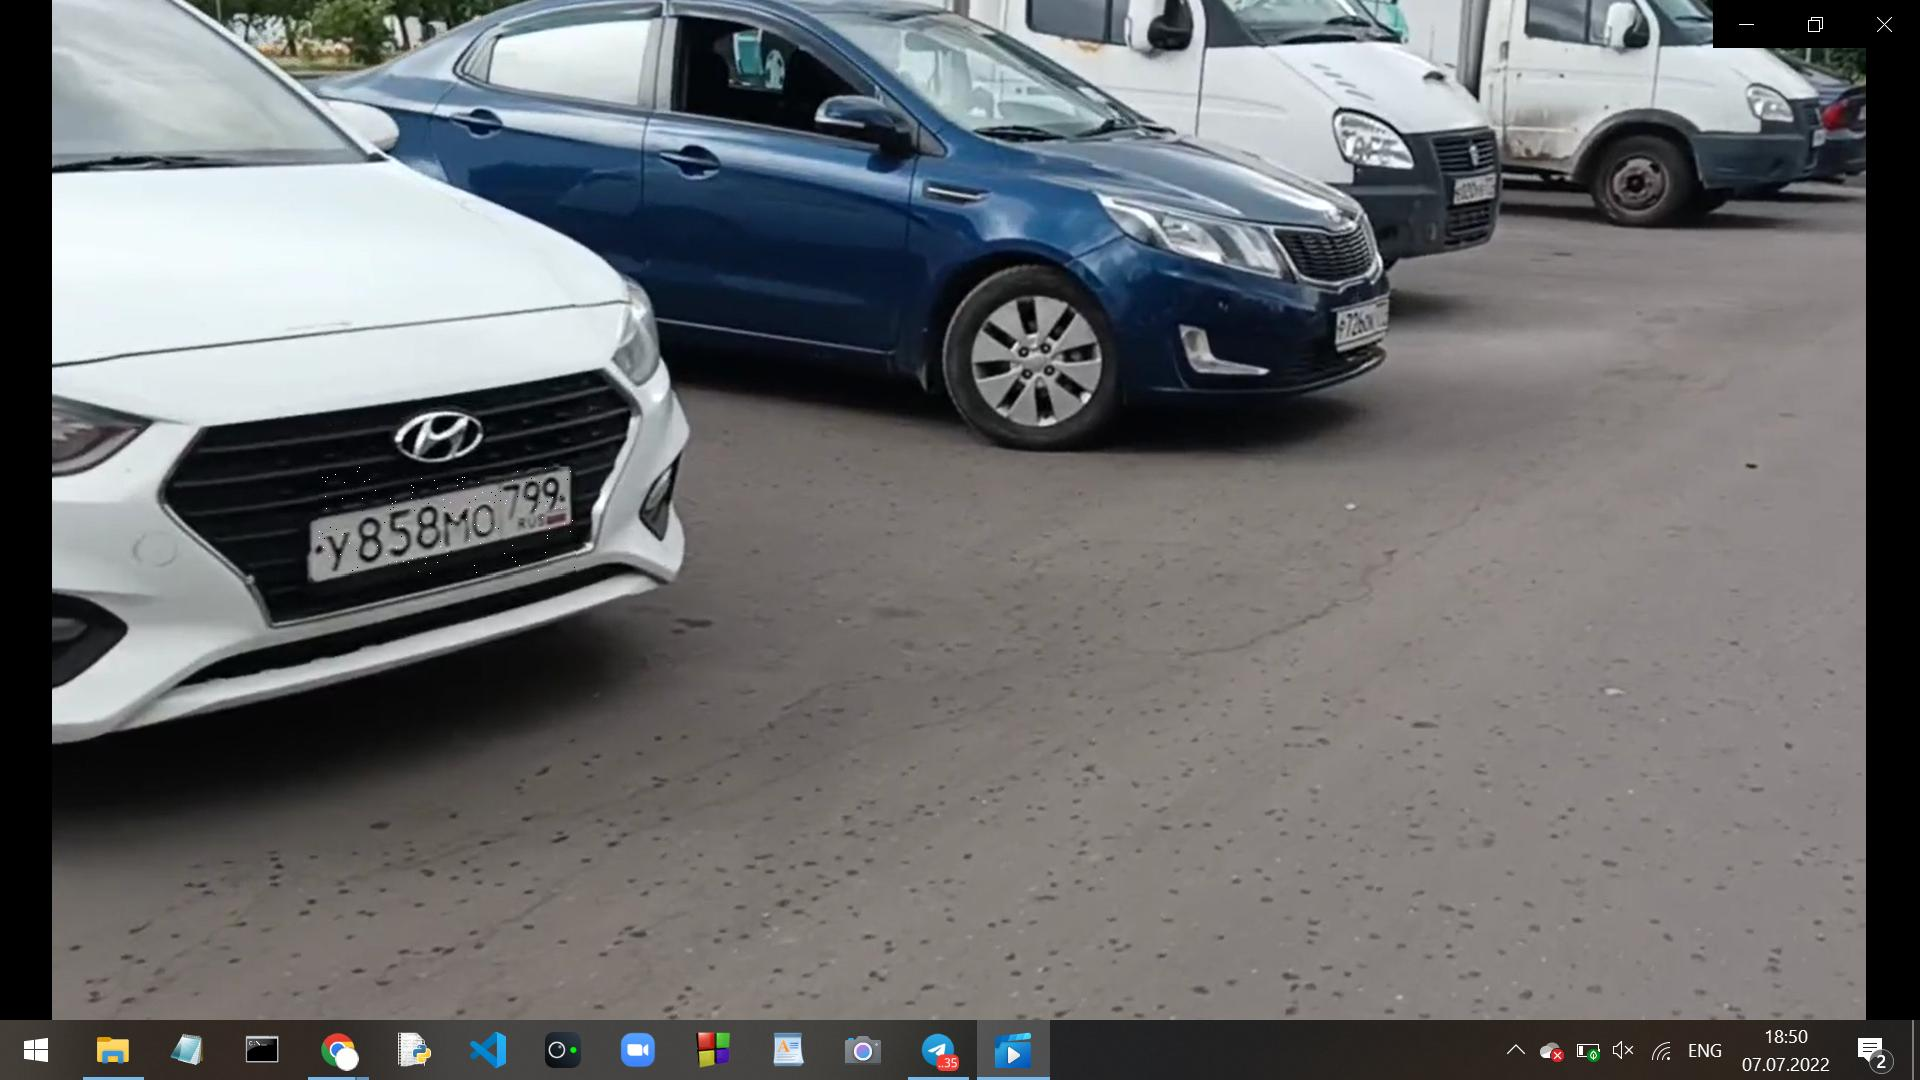plate: (319, 469, 577, 577)
